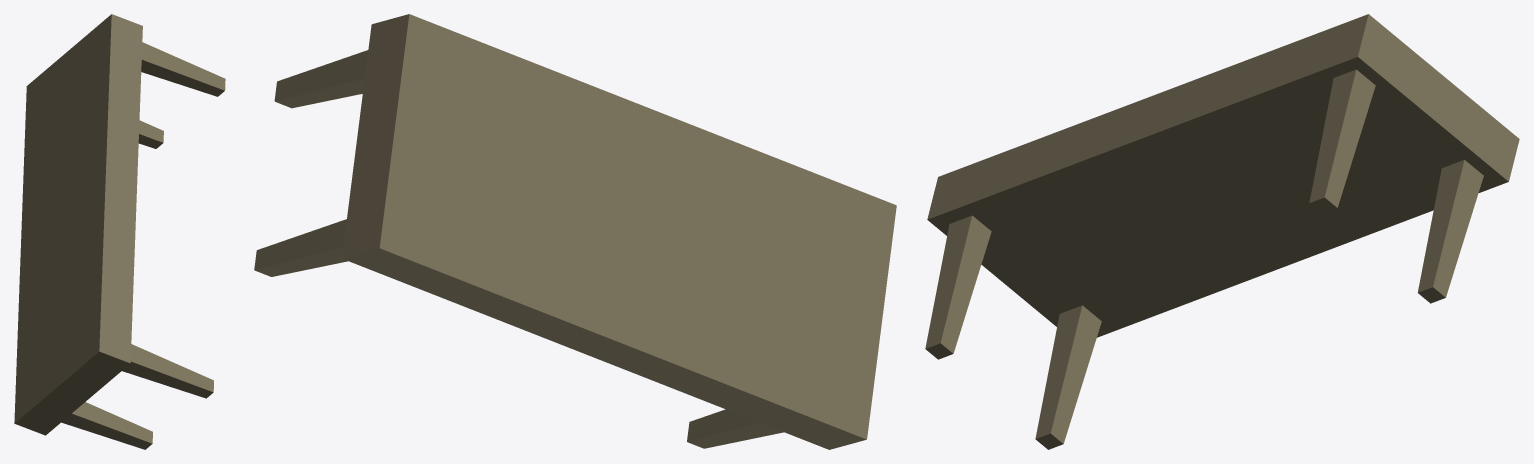
File: desk.fbx
3 views of the same model, side by side, from view 1: azimuth 30°, elevation 25°; view 2: azimuth 150°, elevation 25°; view 3: azimuth 270°, elevation 25° (orthographic). The views are drawn at different scales.
Visible parts, largest first — view 1: polySurface303; view 2: polySurface303; view 3: polySurface303.
Part boxes in pixels (<box>): polySurface303: <box>14,14,225,449</box>; polySurface303: <box>254,14,896,449</box>; polySurface303: <box>925,14,1519,449</box>.
Size of the model in its own units: 65.17 by 71.81 by 78.9.
